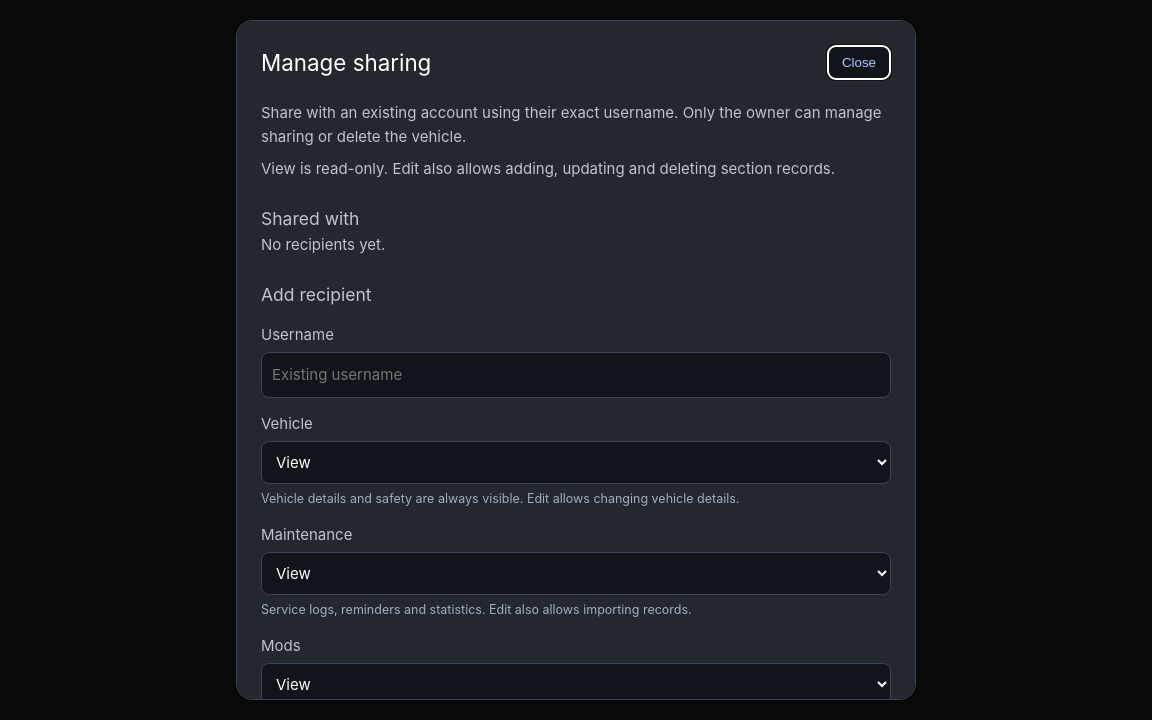
Scenario: vehicle sharing › shows server errors without claiming that a grant was added
The width and height of the screenshot is (1152, 720).
Type "missing" into the field labelled "Username" at (576, 375), box [261,352,891,398]
(page scrolled)
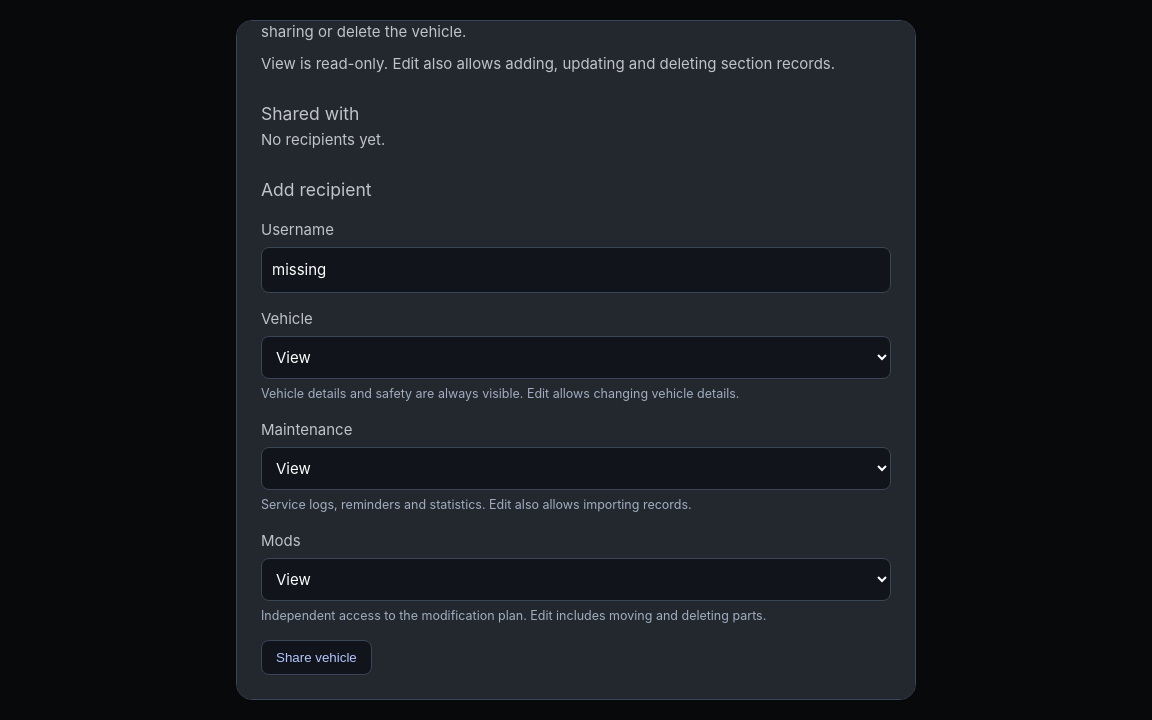
Submit the form, box [261,176,891,675]
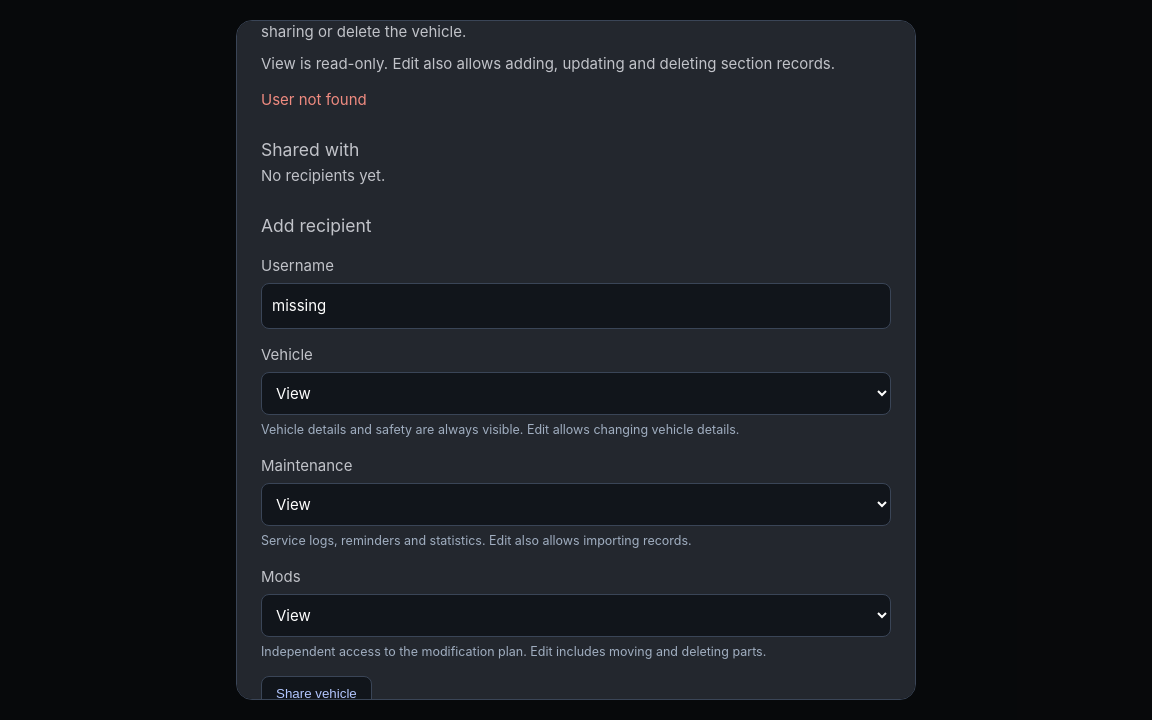
Expected: the element with class "recipients" shows "No recipients yet", [261,166,385,185]
Result: the message "User not found" is shown at [261,90,367,109]
